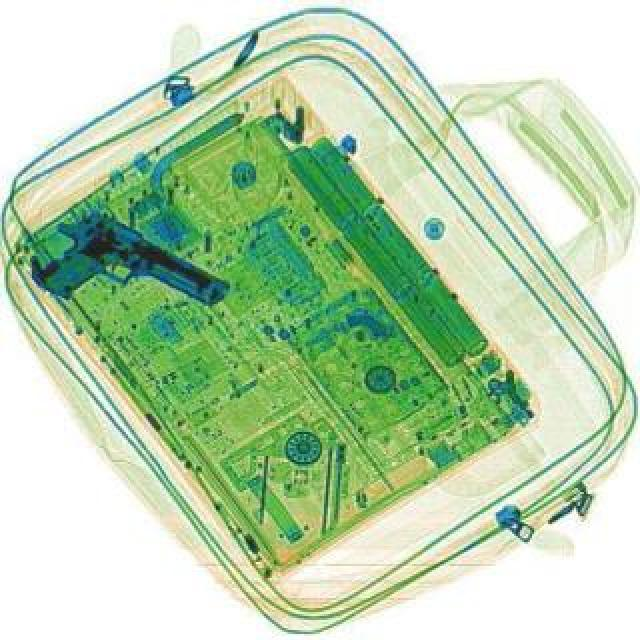gun: (22, 196, 232, 364)
